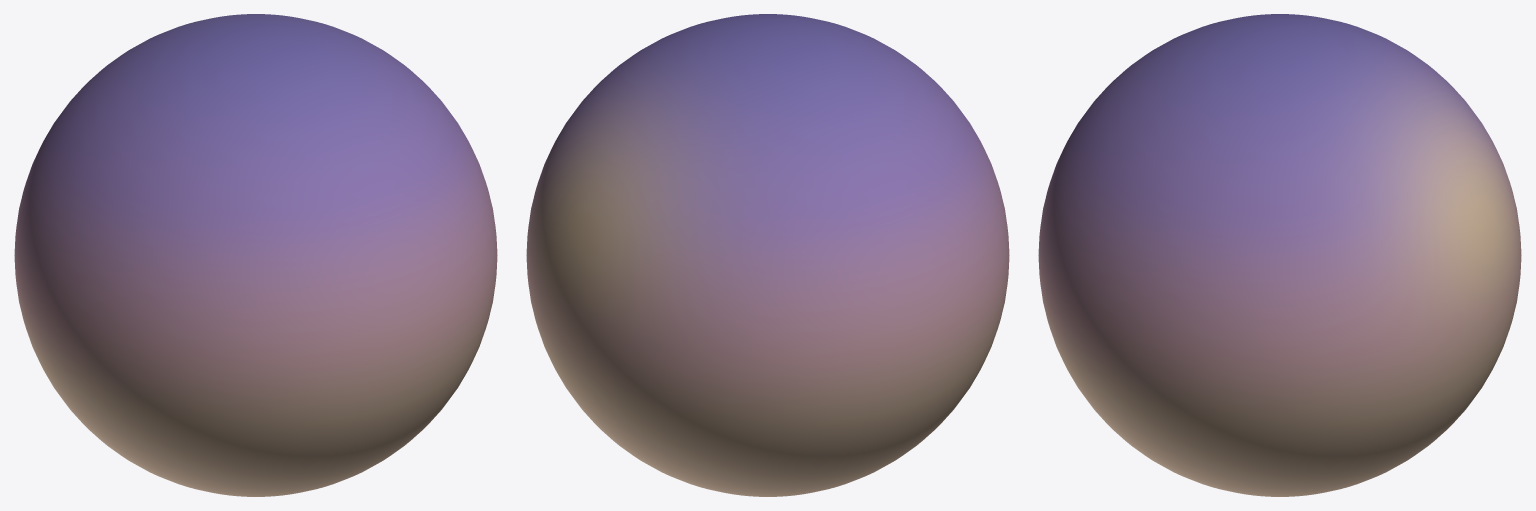
Rendered from environment.glb.
3 renders of one model, left to right at view 1: azimuth 30°, elevation 25°; view 2: azimuth 150°, elevation 25°; view 3: azimuth 270°, elevation 25°, orthographic.
Parts seen in each view (by area): view 1: ENV Sky dome; view 2: ENV Sky dome; view 3: ENV Sky dome.
Part boxes in pixels (x1,y1,x2,y2): ENV Sky dome: (14, 14, 497, 496); ENV Sky dome: (526, 14, 1009, 496); ENV Sky dome: (1038, 14, 1521, 496).
Size of the model in its own units: 3200 by 3200 by 3200.
